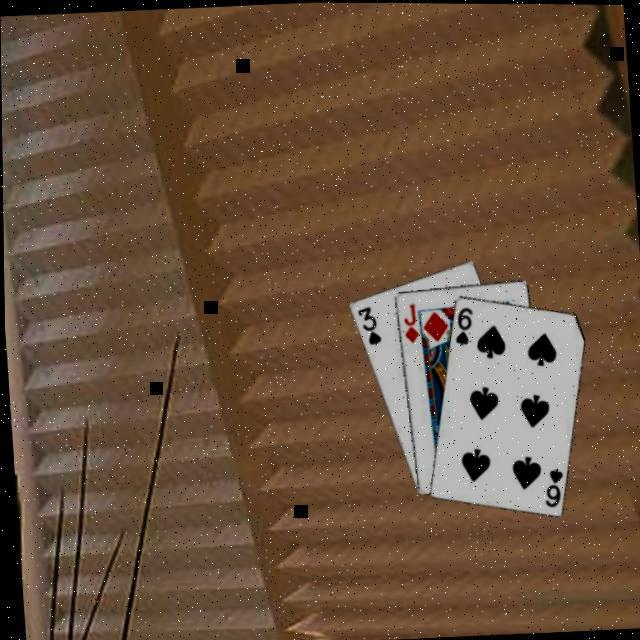3S: (352, 302, 382, 346)
6S: (448, 303, 475, 347), (538, 464, 565, 508)
JD: (398, 300, 420, 344)
